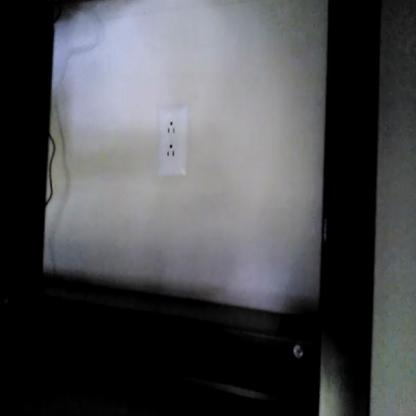OUTLET: (158, 106, 187, 177)
